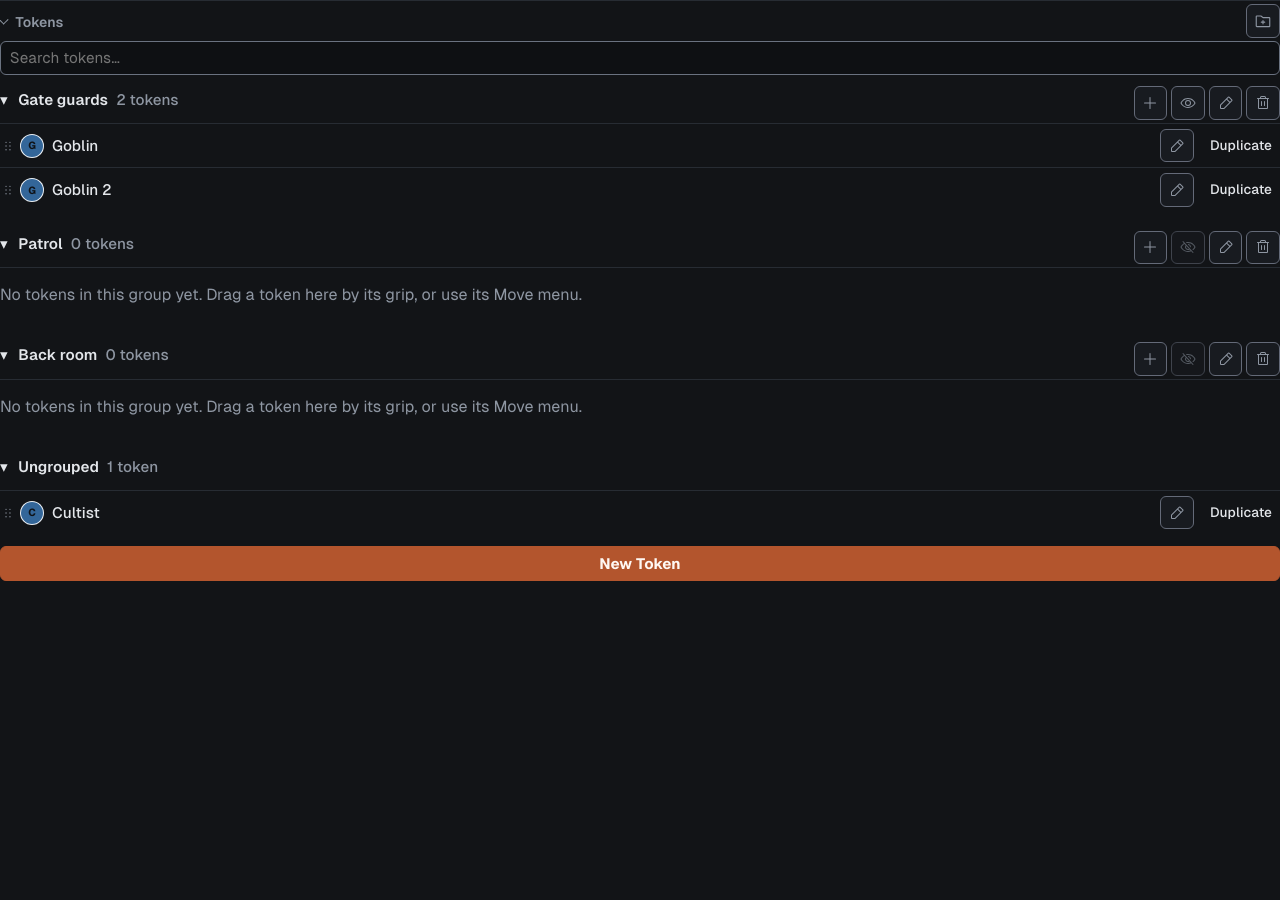
moving a token between groups from the roster (FR-GM-08, KAN-82) › lists groups in creation order, then Ungrouped, with the current group marked and not selectable
Click the button named "Move Goblin 2 to group" at (8, 190), box [0,173,16,207]
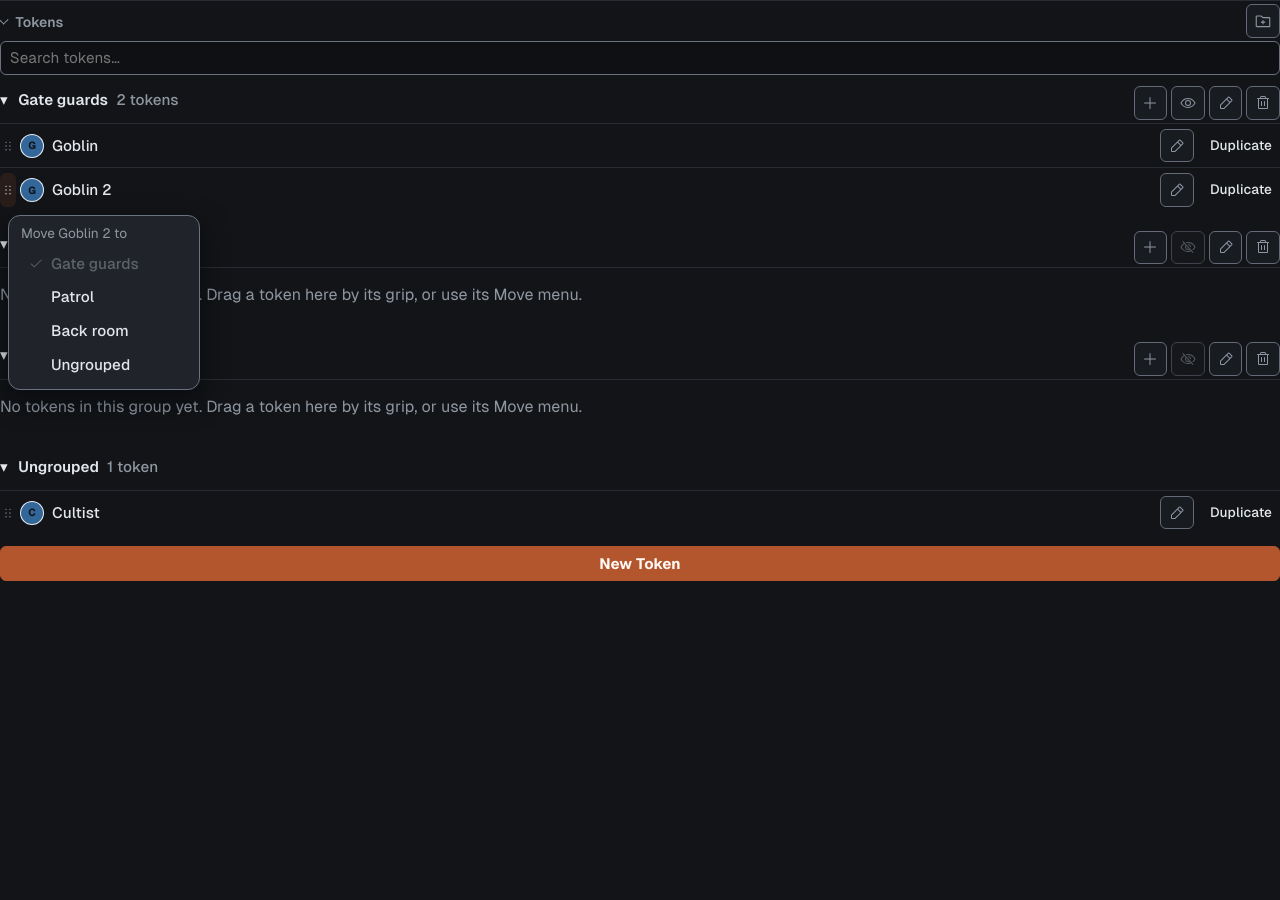
Now the buttons read "Gate guards", "Patrol", "Back room", "Ungrouped", in this order, box [21,247,187,280]; [21,280,187,314]; [21,314,187,347]; [21,347,187,381]
Now the button "Gate guards" is disabled, box [21,247,187,280]
Now the button "Patrol" is enabled, box [21,280,187,314]
